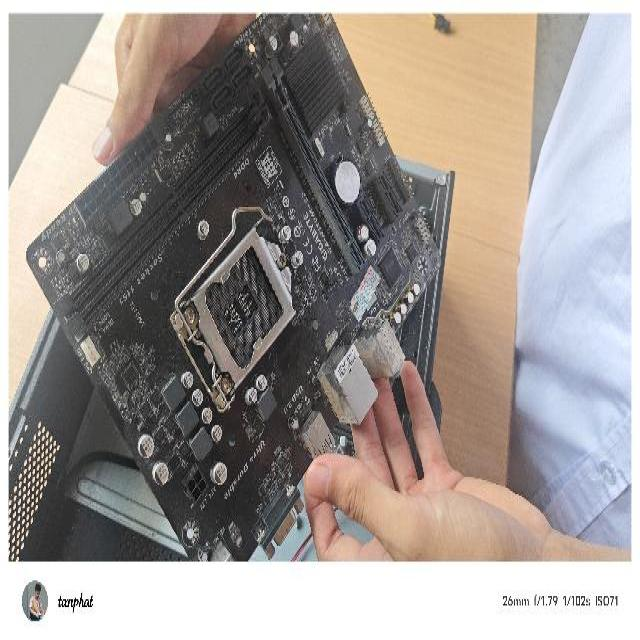Mainboard: (27, 11, 447, 562)
